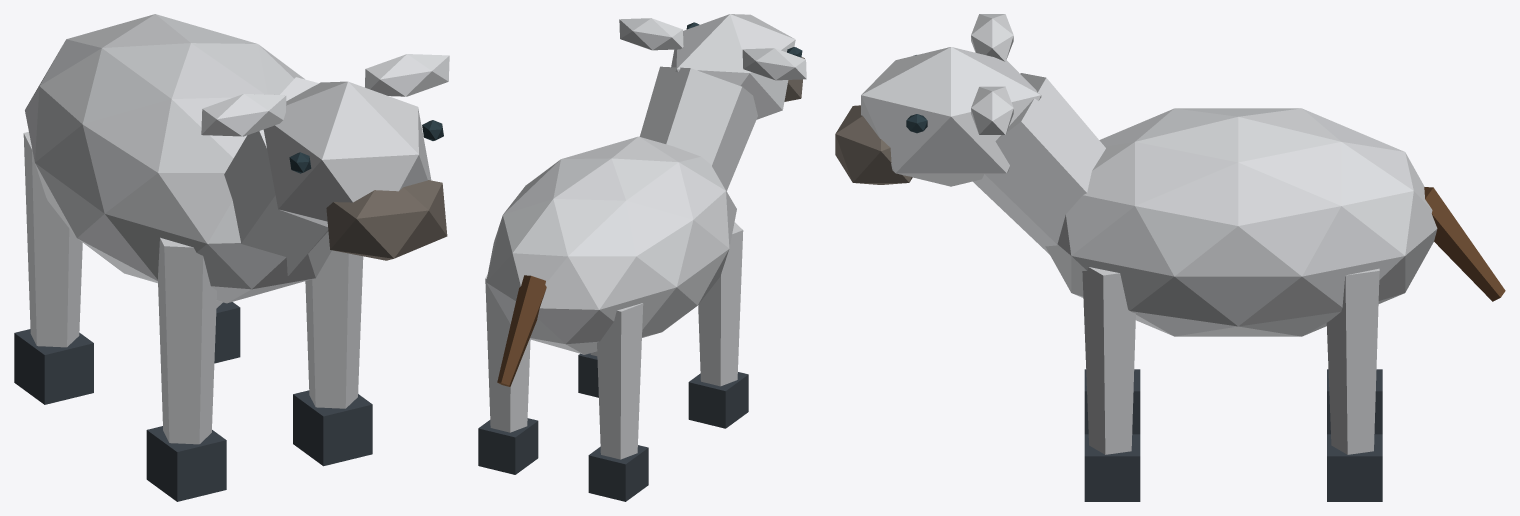
Rendered from res_sheep.glb.
3 views of the same model, side by side, from view 1: azimuth 30°, elevation 25°; view 2: azimuth 150°, elevation 25°; view 3: azimuth 270°, elevation 25° (orthographic). The views are drawn at different scales.
Parts seen in each view (by area): view 1: res_sheep; view 2: res_sheep; view 3: res_sheep.
Part boxes in pixels (x1=…): res_sheep: x1=14, y1=14, x2=449, y2=501; res_sheep: x1=478, y1=14, x2=806, y2=501; res_sheep: x1=835, y1=14, x2=1505, y2=501.
Size of the model in its own units: 0.1461 by 0.253 by 0.3735.
